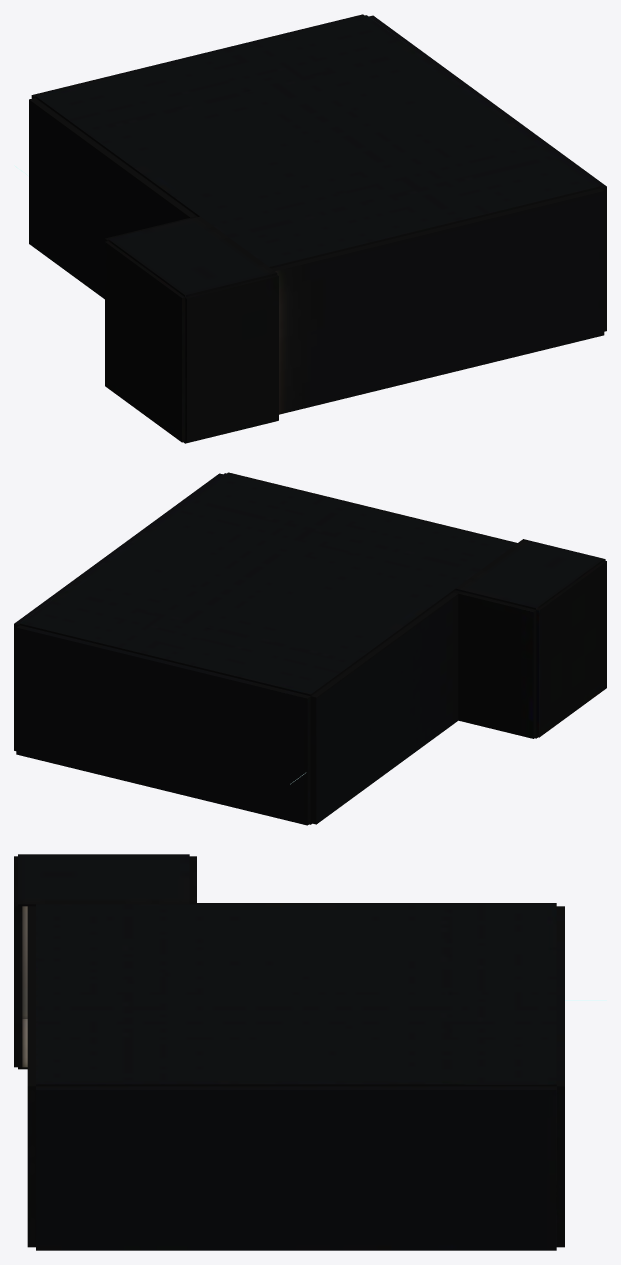
Rendered from room.glb.
The picture shows the model from 3 angles, top to bottom: view 1: azimuth 30°, elevation 25°; view 2: azimuth 150°, elevation 25°; view 3: azimuth 270°, elevation 25°; orthographic projection. The views are drawn at different scales.
Parts seen in each view (by area): view 1: room; view 2: room; view 3: room.
Boxes of the visible parts, x1=… form: room: x1=29, y1=14, x2=606, y2=443; room: x1=14, y1=472, x2=606, y2=825; room: x1=14, y1=854, x2=564, y2=1250.
Bounding box in the file's own units: 9.41 × 3.08 × 10.02.
Materials: 25 (24 with a texture image).
